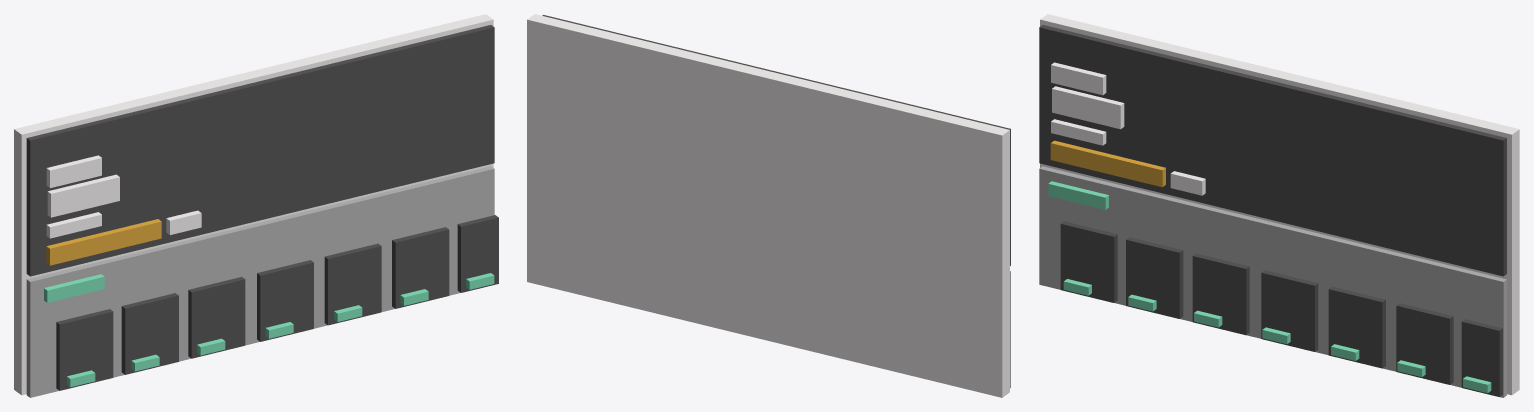
The picture shows the model from 3 angles, left to right: view 1: azimuth 30°, elevation 25°; view 2: azimuth 150°, elevation 25°; view 3: azimuth 330°, elevation 25°; orthographic projection.
Parts seen in each view (by area): view 1: Cube.003; view 2: Cube.003; view 3: Cube.003.
Part boxes in pixels (x1,y1,x2,y2): Cube.003: (14,14,498,397); Cube.003: (527,14,1010,397); Cube.003: (1039,14,1519,397).
Size of the model in its own units: 19.66 by 10.38 by 1.45.
